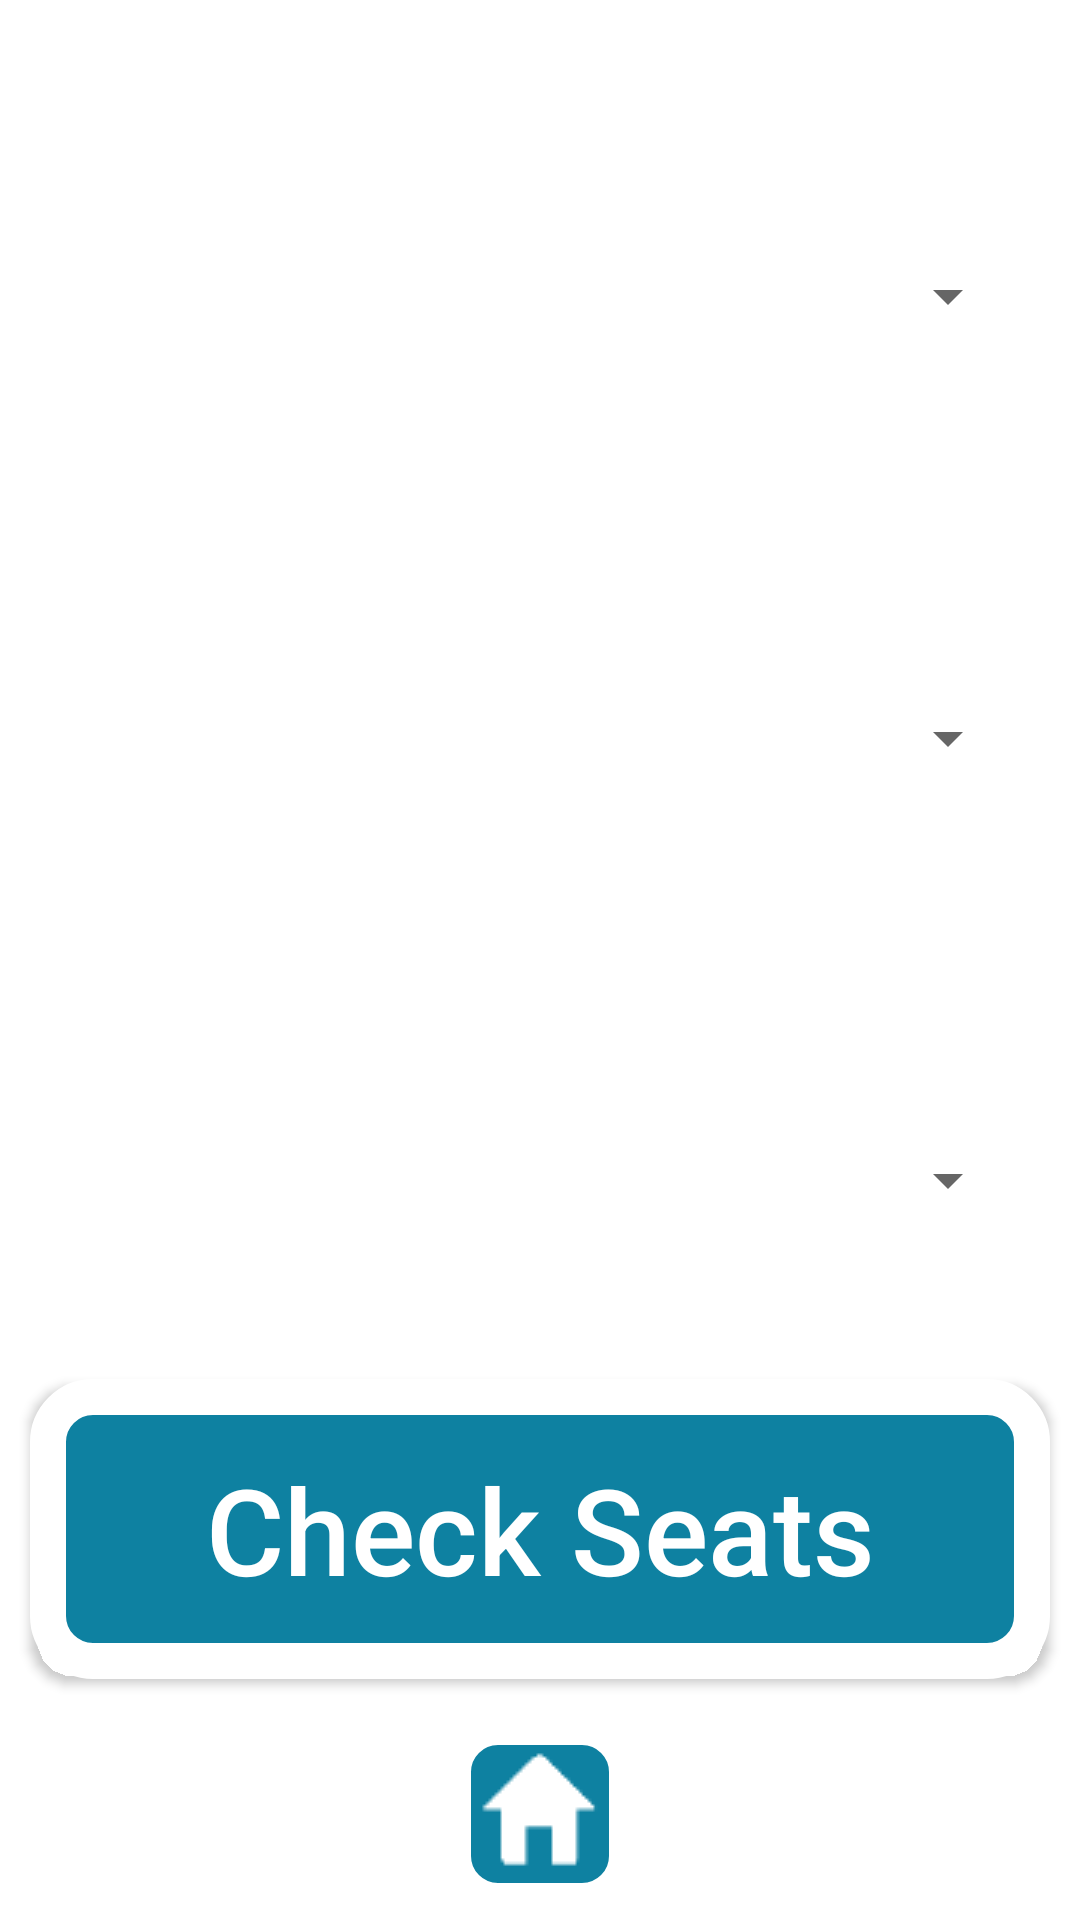

Named icons in this screenshot (1080 × 1920) and their bounding boxes, box(x1, y1, x2, y2):
home: box(471, 1745, 609, 1883)
